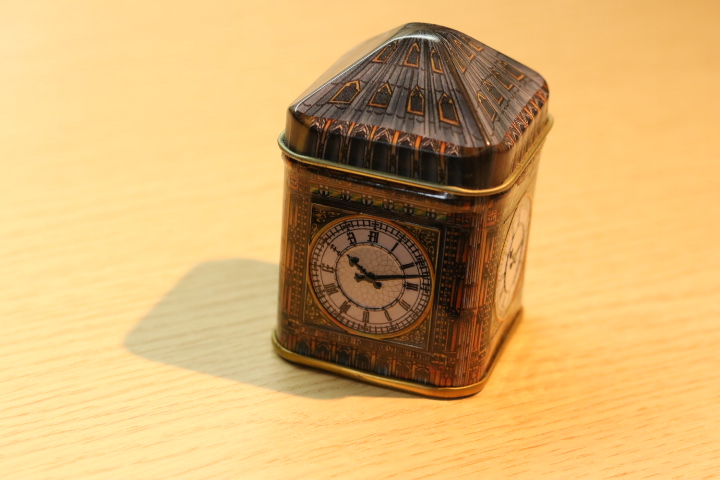Big Ben: (257, 10, 575, 412)
